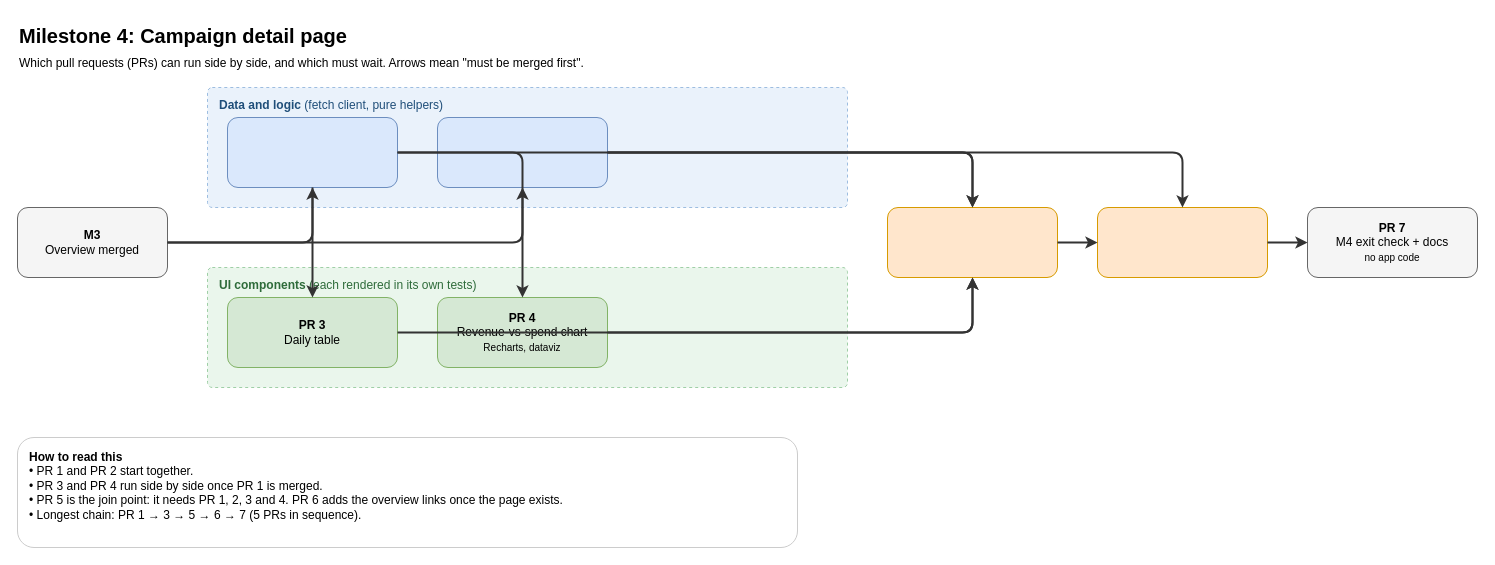
The diagram is 1495 pixels wide and 565 high, and some of its shapes have lost their labels. The shapes that lost their labels are listed below. From the top down, each one's centre as x and y in pixels, then its label:
At [312,152]: "PR 1 Daily fetch + helpers".
At [522,152]: "PR 2 Link helpers + back link".
At [972,242]: "PR 5 Detail page needs PR 1, 2, 3, 4".
At [1182,242]: "PR 6 Row links from overview".
